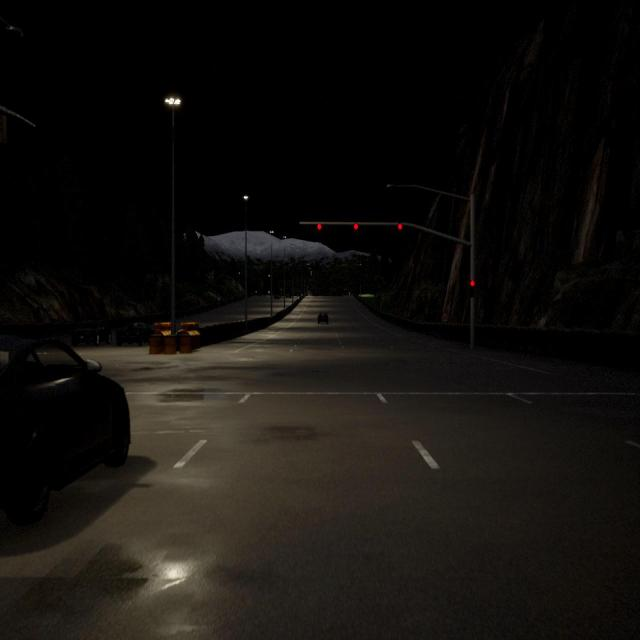Traffic_Signs: (443, 314, 448, 322), (218, 298, 220, 300)
Vehicle: (0, 325, 130, 528), (72, 320, 111, 347), (116, 322, 152, 347), (317, 312, 328, 324), (274, 294, 280, 300), (286, 292, 291, 298)
traffic_light: (470, 280, 475, 298), (397, 223, 403, 230), (317, 223, 322, 230), (354, 223, 358, 230)
